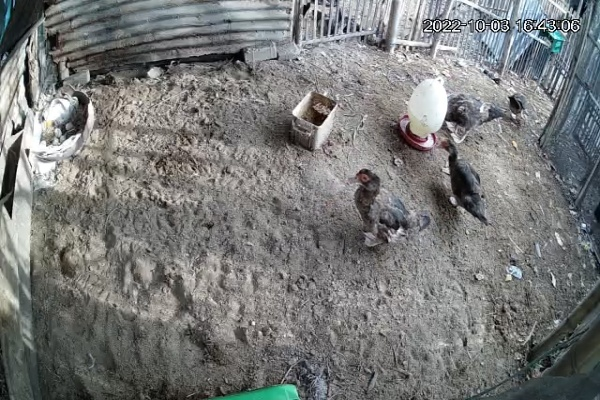Entog: (336, 158, 432, 254), (436, 136, 497, 236)
